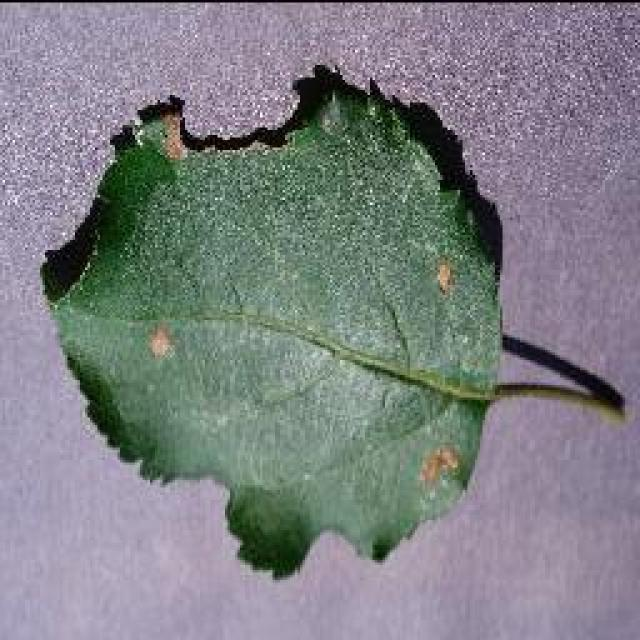Apple___Black_rot: (35, 84, 507, 584)
